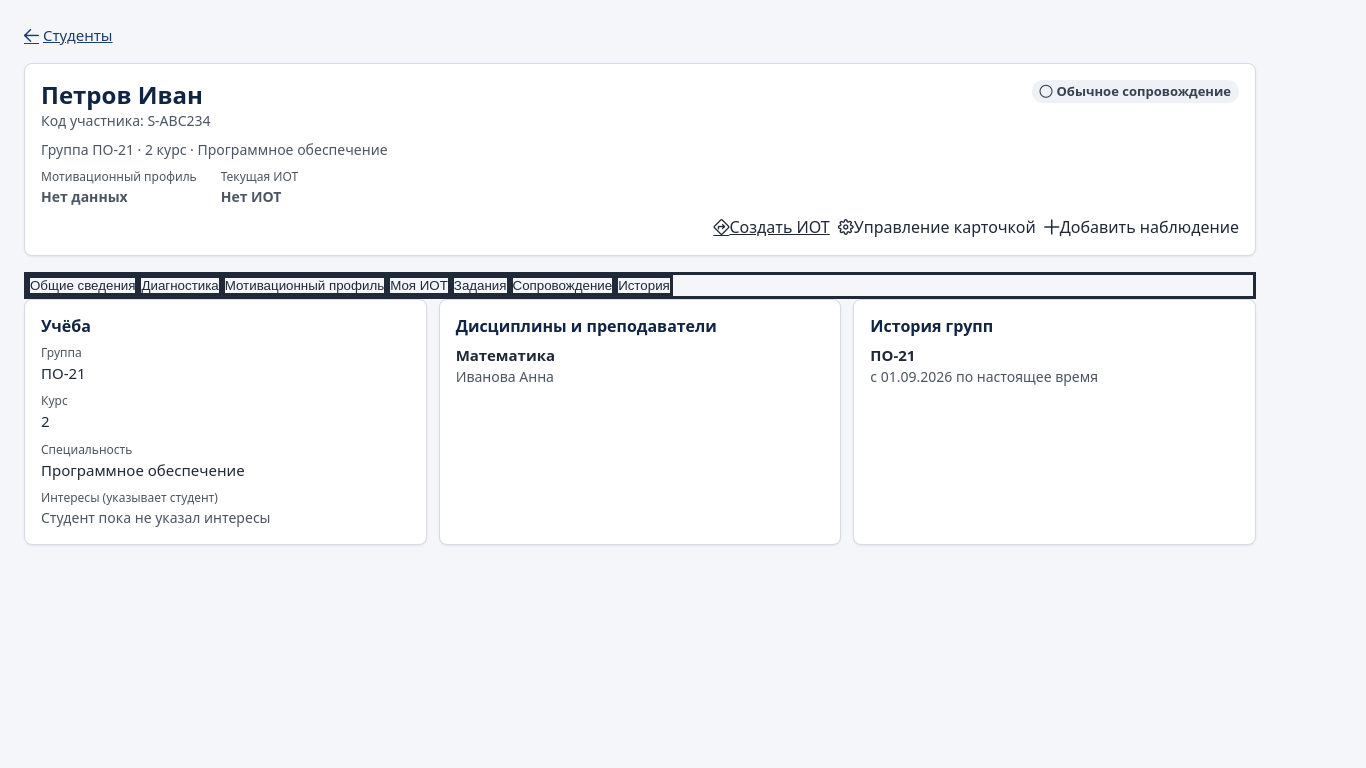
Test: StudentProfileView › FR-005: вкладки без данных показывают пояснение
The width and height of the screenshot is (1366, 768).
Click the tab "Диагностика".
click(180, 285)  # box [138,274,222,296]
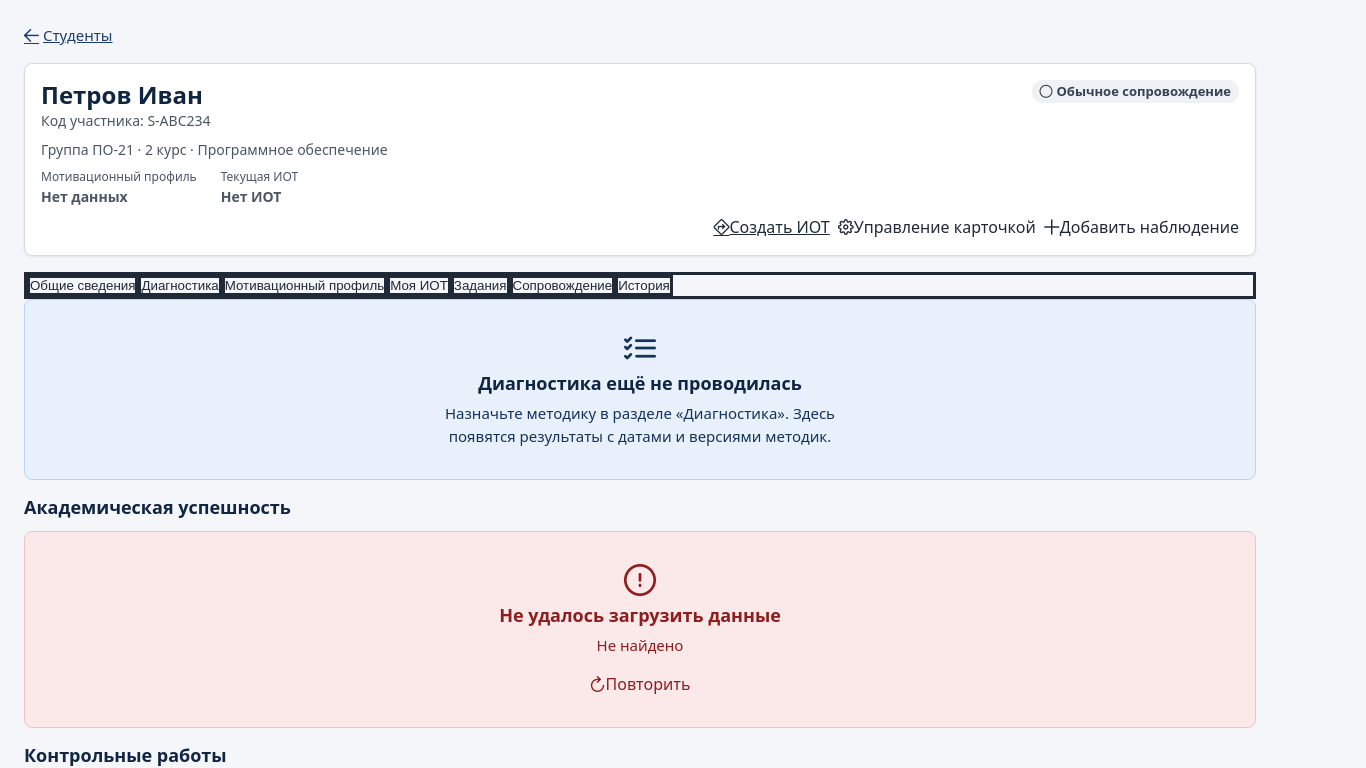
Now the text "Диагностика ещё не проводилась" is shown, box [478,372,802,394]
Click the tab "Задания".
click(480, 285)  # box [451,274,510,296]
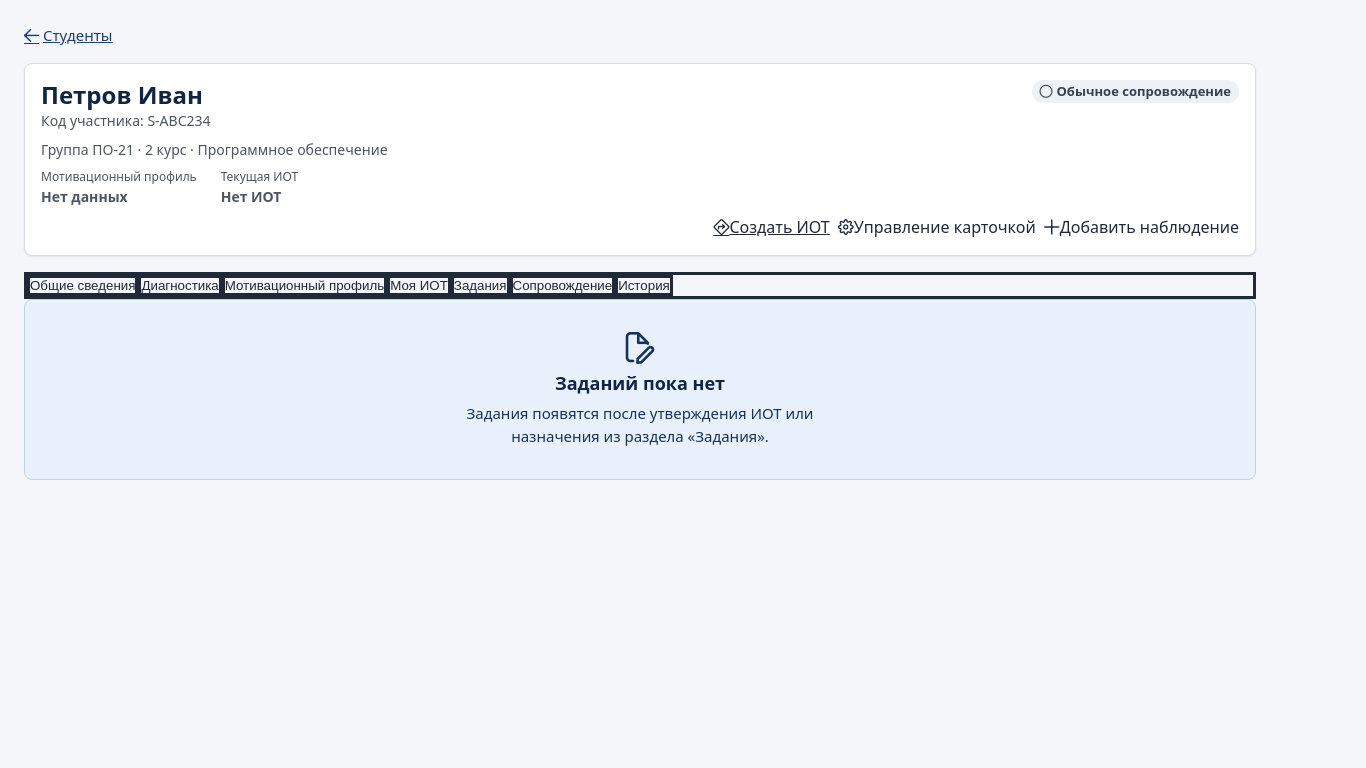
Now the text "Заданий пока нет" is shown, box [555,372,725,394]
